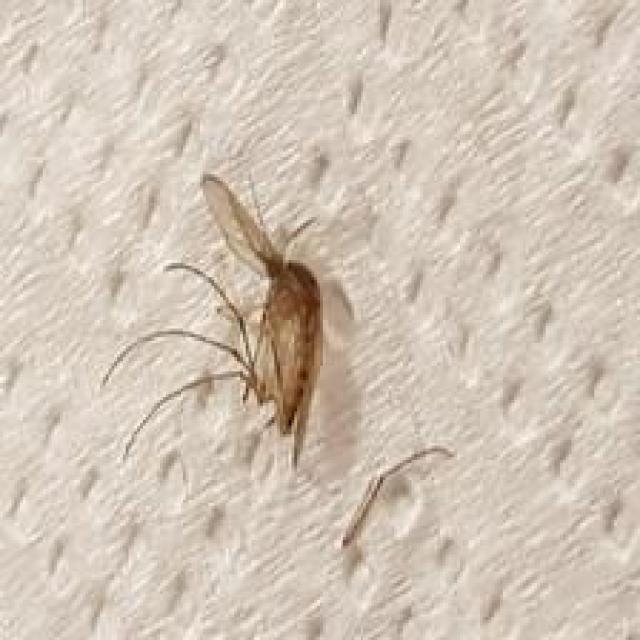Culex: (100, 168, 334, 472)
